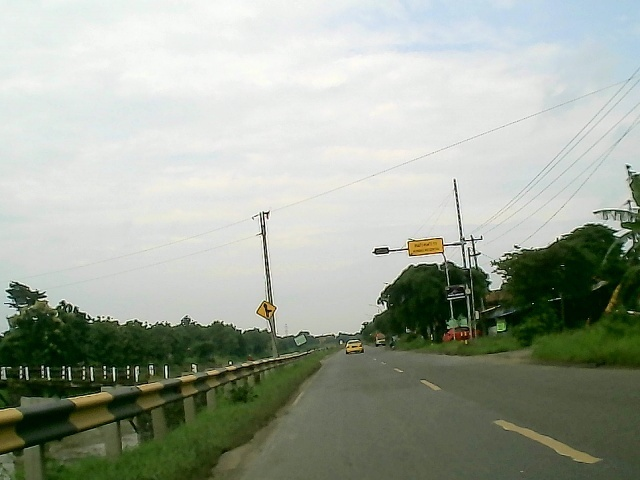Simpang kanan dengan prioritas: (256, 299, 279, 324)
